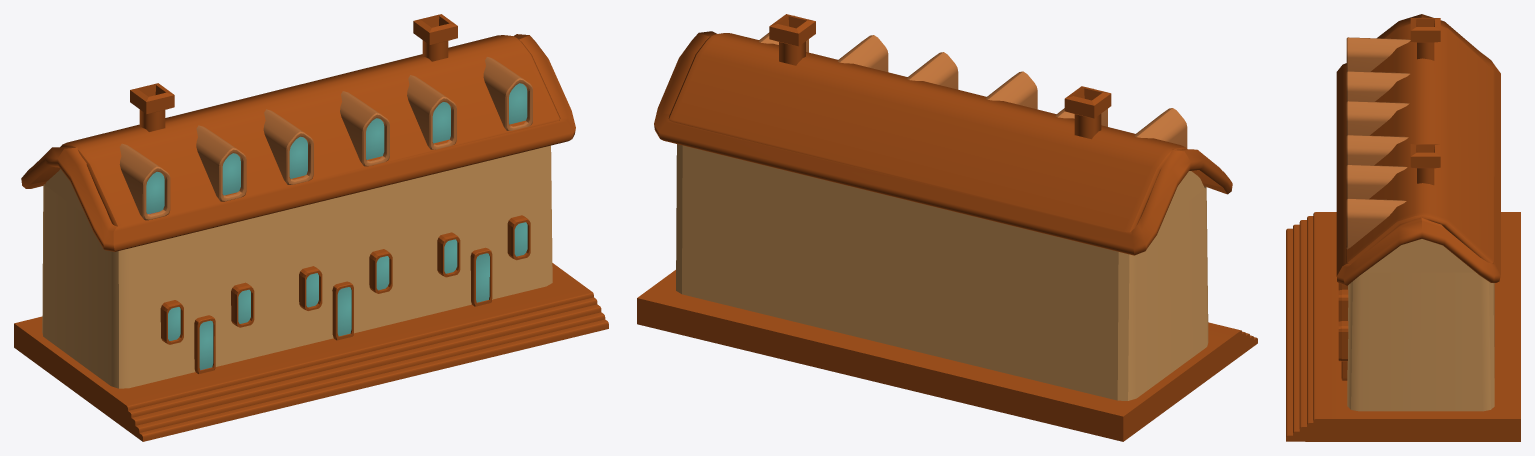
The model's file is SM_Building.fbx.
3 renders of one model, left to right at view 1: azimuth 30°, elevation 25°; view 2: azimuth 150°, elevation 25°; view 3: azimuth 270°, elevation 25°, orthographic. The views are drawn at different scales.
Parts seen in each view (by area): view 1: SM_Building; view 2: SM_Building; view 3: SM_Building.
Part boxes in pixels (left/top/right/bottom): SM_Building: left=14, top=14, right=608, bottom=441; SM_Building: left=637, top=14, right=1257, bottom=441; SM_Building: left=1286, top=14, right=1520, bottom=441.
Size of the model in its own units: 1887 by 1036 by 881.
